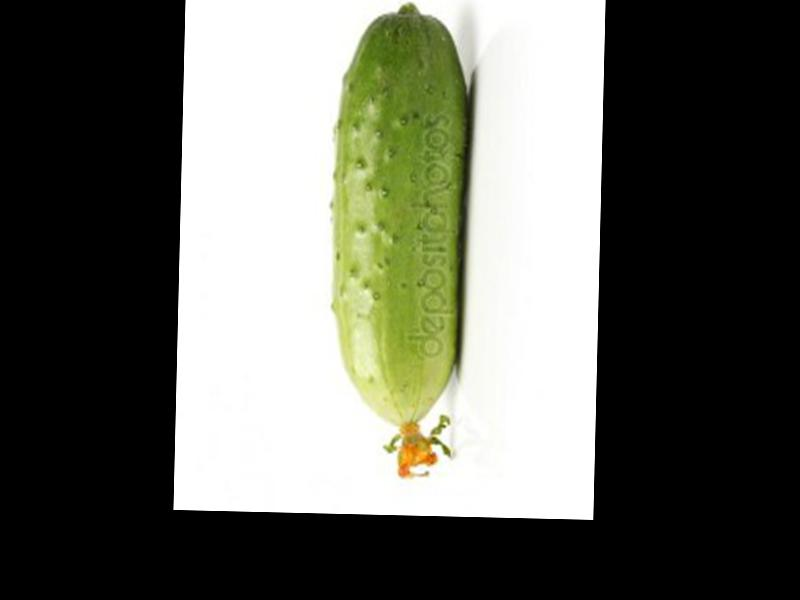Cucumber: (326, 0, 474, 476)
